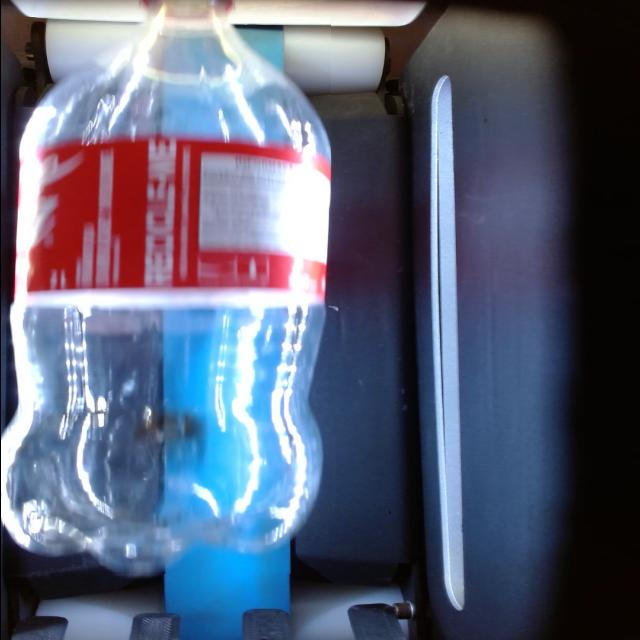bottle: (3, 17, 329, 574)
